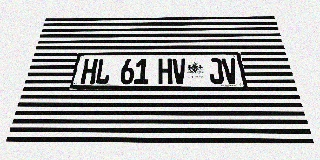1: (134, 59, 149, 84)
6: (120, 59, 135, 84)
H: (80, 59, 98, 84), (158, 59, 172, 84)
J: (207, 58, 224, 84)
L: (95, 59, 112, 84)
V: (221, 58, 239, 84), (172, 58, 187, 84)
